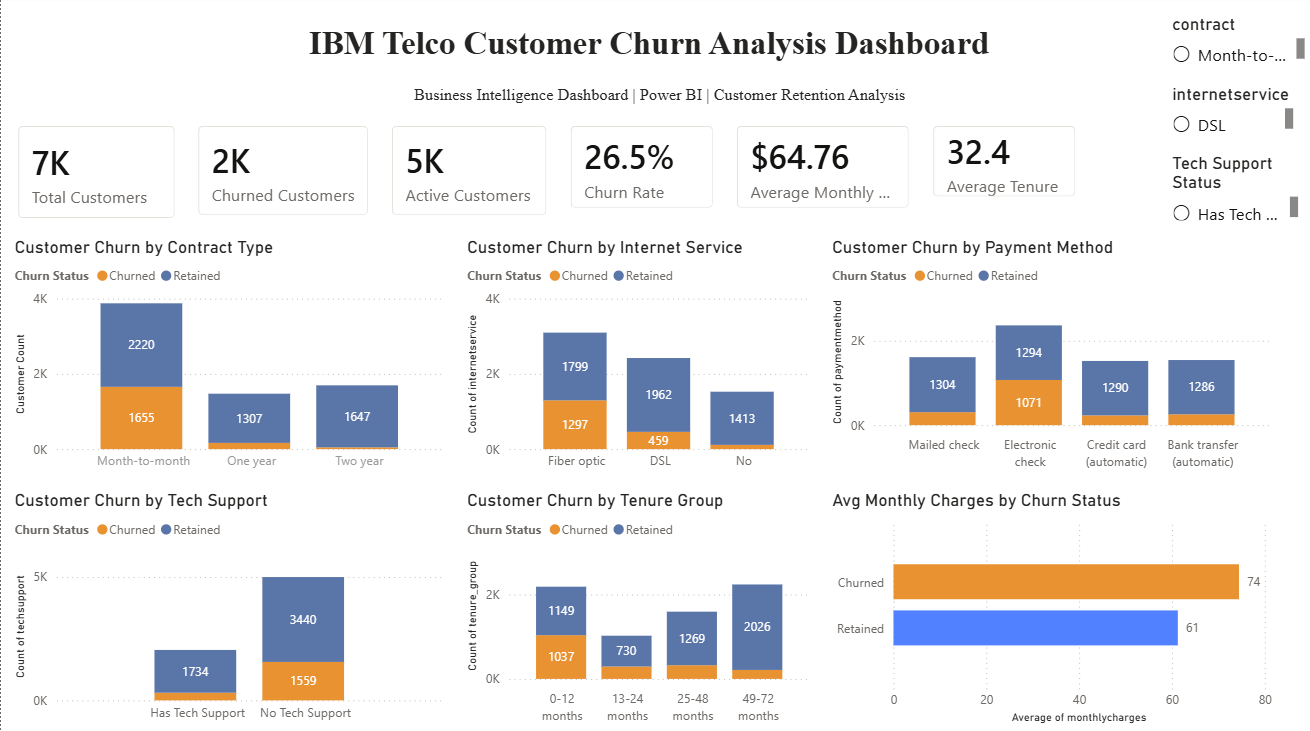

The dashboard page shown, as its layout file describes it:
{"tool":"powerbi","page":{"name":"Page 1","canvas":[1280,720],"ordinal":0},"visuals":[{"type":"cardVisual","fields":{"Data":["Measure Table.Total Customers"]},"box":[0,111.3,187.1,124.7],"z":0},{"type":"cardVisual","fields":{"Data":["Measure Table.Churned Customers"]},"box":[176.1,111.3,200.5,121.1],"z":1000},{"type":"cardVisual","fields":{"Data":["Measure Table.Active Customers"]},"box":[365.6,111.3,185.9,121.1],"z":2000},{"type":"cardVisual","fields":{"Data":["Measure Table.Churn Rate"]},"box":[540.5,111.3,173.6,114.9],"z":3000},{"type":"cardVisual","fields":{"Data":["Measure Table.Average Monthly Charges"]},"box":[703.1,111.3,203,114.9],"z":4000},{"type":"cardVisual","fields":{"Data":["Measure Table.Average Tenure"]},"box":[895.1,111.3,173.6,103.9],"z":5000},{"type":"textbox","box":[8.6,23.2,1251,70.9],"z":6000},{"type":"textbox","box":[8.6,83.2,1271.7,37.9],"z":7000},{"type":"columnChart","title":"Customer Churn by Contract Type","fields":{"Category":["telco_churn_clean.contract"],"Y":["CountNonNull(telco_churn_clean.contract)"],"Series":["telco_churn_clean.Churn Status"]},"box":[8.6,236,431.7,238.5],"z":8000},{"type":"columnChart","title":"Customer Churn by Internet Service","fields":{"Category":["telco_churn_clean.internetservice"],"Y":["CountNonNull(telco_churn_clean.internetservice)"],"Series":["telco_churn_clean.Churn Status"]},"box":[451.2,236,346.1,238.5],"z":9000},{"type":"columnChart","title":"Customer Churn by Payment Method","fields":{"Category":["telco_churn_clean.paymentmethod"],"Y":["CountNonNull(telco_churn_clean.paymentmethod)"],"Series":["telco_churn_clean.Churn Status"]},"box":[808.3,236,440.2,236],"z":10000},{"type":"columnChart","title":"Customer Churn by Tech Support","fields":{"Category":["telco_churn_clean.Tech Support Status"],"Y":["CountNonNull(telco_churn_clean.techsupport)"],"Series":["telco_churn_clean.Churn Status"]},"box":[8.6,484,431.7,236],"z":11000},{"type":"columnChart","title":"Customer Churn by Tenure Group","fields":{"Category":["telco_churn_clean.tenure_group"],"Y":["CountNonNull(telco_churn_clean.tenure_group)"],"Series":["telco_churn_clean.Churn Status"]},"box":[451.2,484,346.1,236],"z":12000},{"type":"clusteredBarChart","title":"Avg Monthly Charges by Churn Status","fields":{"Category":["telco_churn_clean.Churn Status"],"Y":["Avg(telco_churn_clean.monthlycharges)"]},"box":[808.3,484.2,440.2,233.6],"z":13000},{"type":"listSlicer","fields":{"Values":["telco_churn_clean.contract"]},"box":[1140.6,18.3,139.4,64.8],"z":14000},{"type":"listSlicer","fields":{"Values":["telco_churn_clean.internetservice"]},"box":[1140.6,86.2,128.4,64.8],"z":15000},{"type":"listSlicer","fields":{"Values":["telco_churn_clean.Tech Support Status"]},"box":[1140.6,154.1,133.3,72.1],"z":16000}]}

Visuals, with their boxes in screenshot pixels (x1, y1, x2, y2), scaled from the page's 1280x720 canvas onto the 1310x731 screenshot:
cardVisual - Measure Table.Total Customers: x1=0, y1=113, x2=191, y2=240
cardVisual - Measure Table.Churned Customers: x1=180, y1=113, x2=385, y2=236
cardVisual - Measure Table.Active Customers: x1=374, y1=113, x2=564, y2=236
cardVisual - Measure Table.Churn Rate: x1=553, y1=113, x2=731, y2=230
cardVisual - Measure Table.Average Monthly Charges: x1=720, y1=113, x2=927, y2=230
cardVisual - Measure Table.Average Tenure: x1=916, y1=113, x2=1094, y2=218
textbox: x1=9, y1=24, x2=1289, y2=96
textbox: x1=9, y1=84, x2=1309, y2=123
"Customer Churn by Contract Type" columnChart: x1=9, y1=240, x2=451, y2=482
"Customer Churn by Internet Service" columnChart: x1=462, y1=240, x2=816, y2=482
"Customer Churn by Payment Method" columnChart: x1=827, y1=240, x2=1278, y2=479
"Customer Churn by Tech Support" columnChart: x1=9, y1=491, x2=451, y2=730
"Customer Churn by Tenure Group" columnChart: x1=462, y1=491, x2=816, y2=730
"Avg Monthly Charges by Churn Status" clusteredBarChart: x1=827, y1=492, x2=1278, y2=729
listSlicer - telco_churn_clean.contract: x1=1167, y1=19, x2=1309, y2=84
listSlicer - telco_churn_clean.internetservice: x1=1167, y1=88, x2=1299, y2=153
listSlicer - telco_churn_clean.Tech Support Status: x1=1167, y1=156, x2=1304, y2=230
